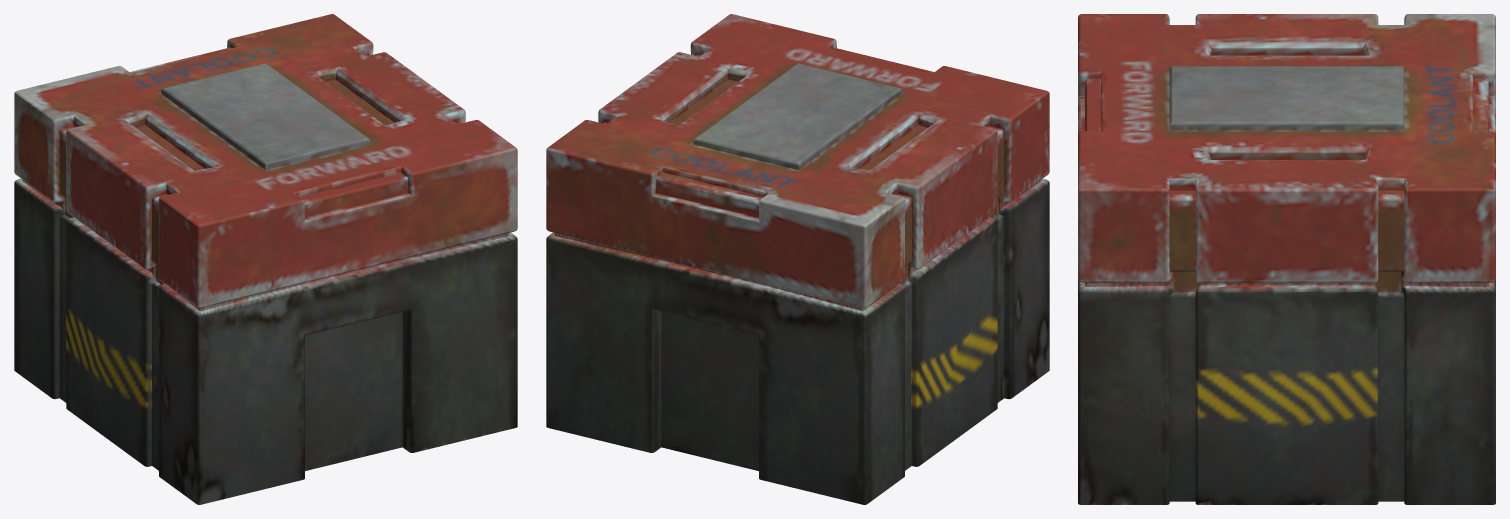
File: SM_Crates_LP_pCube6.fbx
3 views of the same model, side by side, from view 1: azimuth 30°, elevation 25°; view 2: azimuth 150°, elevation 25°; view 3: azimuth 270°, elevation 25° (orthographic). The views are drawn at different scales.
Parts seen in each view (by area): view 1: SM_Crates_LP_pCube6_LOD0; view 2: SM_Crates_LP_pCube6_LOD0; view 3: SM_Crates_LP_pCube6_LOD0.
Boxes of the visible parts, <box> form: SM_Crates_LP_pCube6_LOD0: <box>14,14,517,504</box>; SM_Crates_LP_pCube6_LOD0: <box>546,14,1049,504</box>; SM_Crates_LP_pCube6_LOD0: <box>1078,14,1495,504</box>.
Size of the model in its own units: 60 by 60 by 51.17.
Materials: 1 (1 with a texture image).
